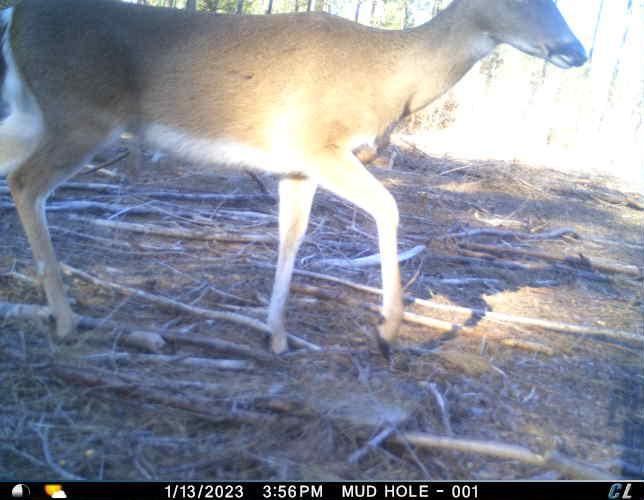Deer: (0, 0, 592, 359)
